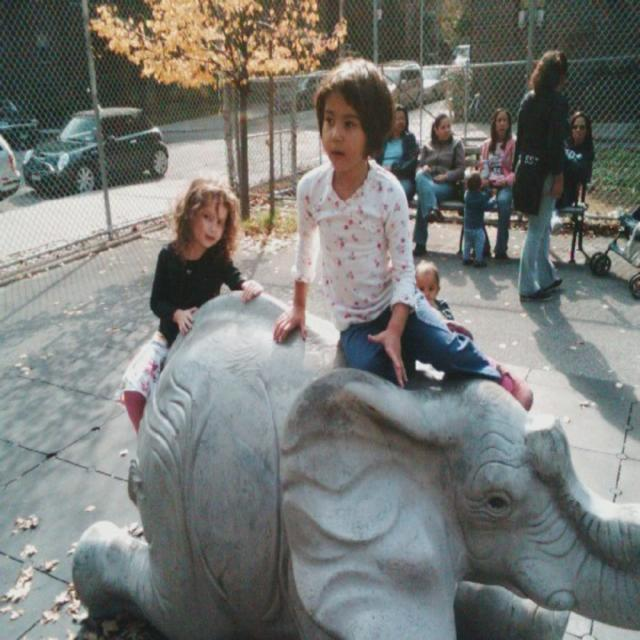elephant: (77, 287, 639, 638)
